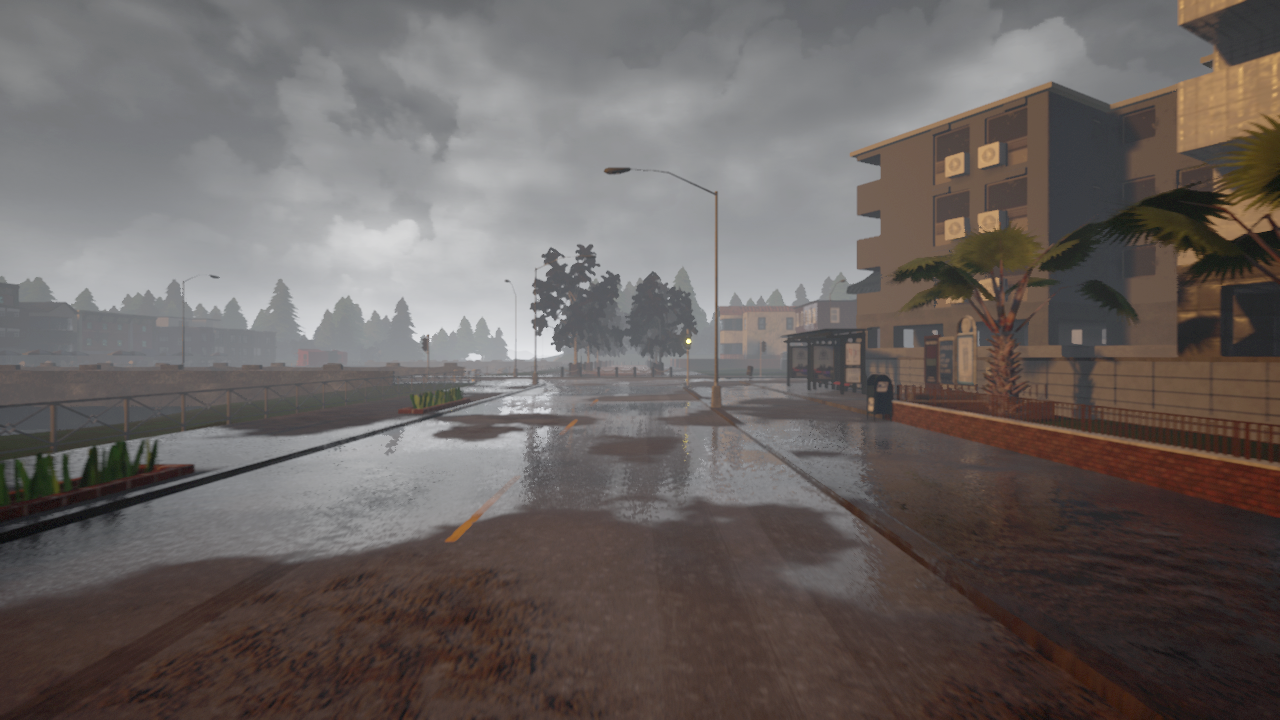yellow: (684, 334, 691, 350)
